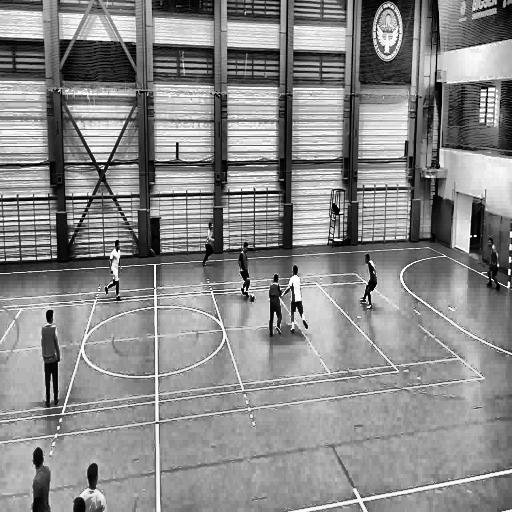ball: (250, 292, 256, 304)
player: (40, 308, 60, 408), (282, 265, 308, 334), (30, 447, 51, 512), (80, 461, 106, 512), (104, 238, 124, 303), (268, 272, 284, 340), (360, 253, 378, 311), (484, 236, 501, 292), (238, 238, 251, 300), (201, 221, 216, 267)
